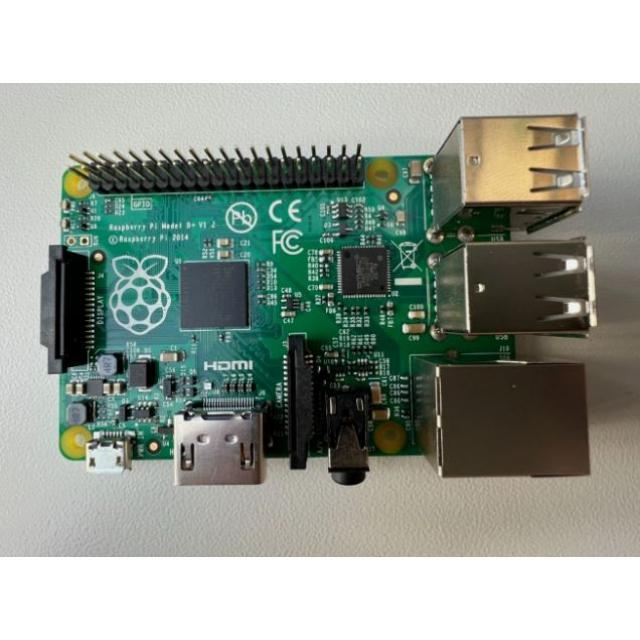Raspberry Pi 1 B-: (42, 115, 598, 486)
